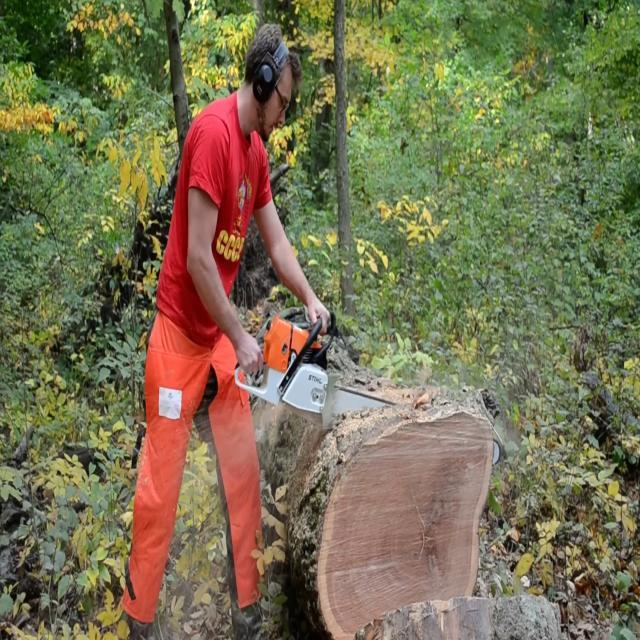Chainsaw: (212, 296, 520, 492)
